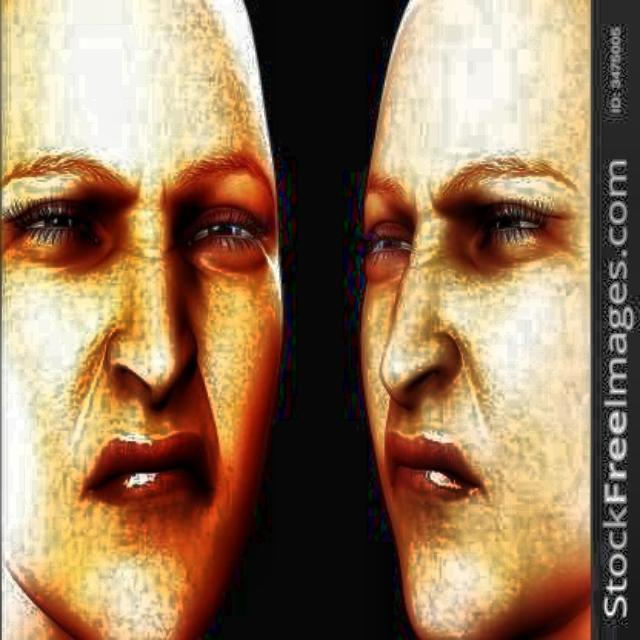disgust: (0, 3, 296, 636)
